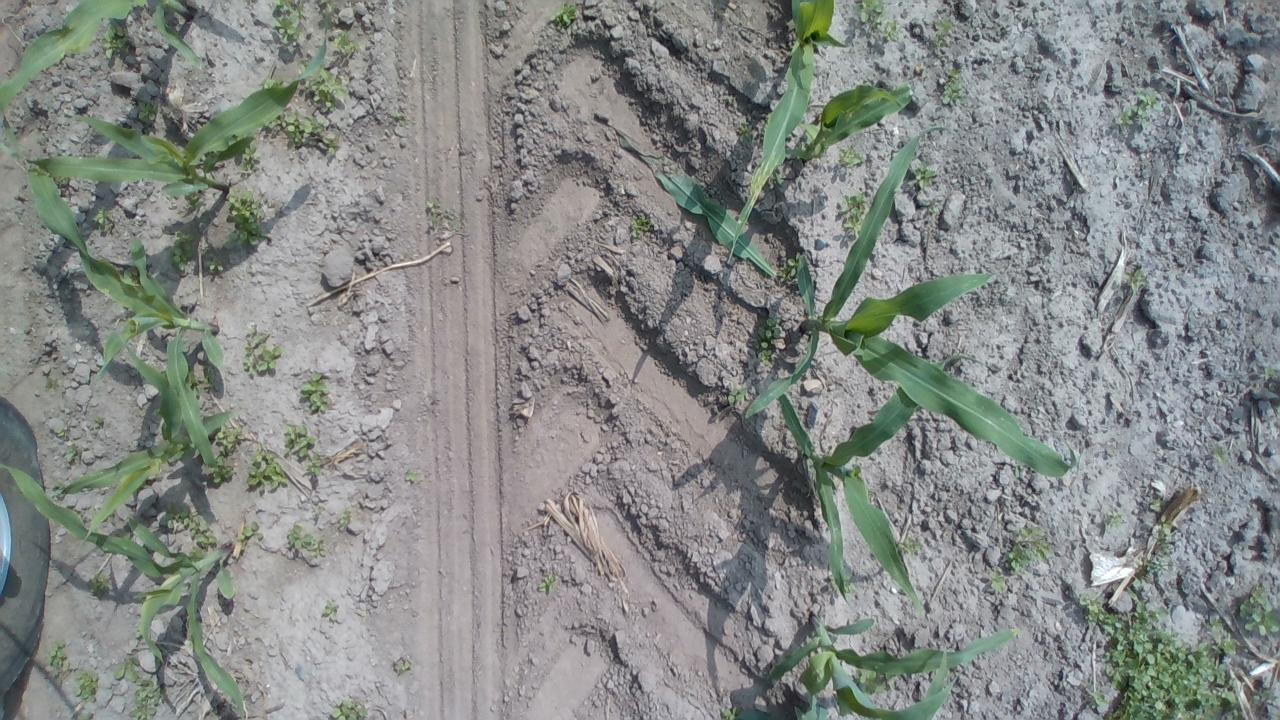Maize: (743, 124, 1082, 478), (0, 116, 224, 470), (0, 459, 248, 720), (0, 22, 327, 202), (778, 353, 990, 614), (57, 341, 233, 543), (730, 0, 849, 258), (762, 613, 1021, 720), (0, 0, 201, 116), (788, 82, 912, 160)
Weeds: (1080, 587, 1240, 720), (223, 186, 269, 244), (298, 57, 346, 111), (1004, 524, 1052, 575), (286, 109, 336, 155), (1239, 585, 1280, 635), (244, 445, 288, 491), (240, 323, 282, 371), (1114, 90, 1160, 130), (269, 0, 307, 45), (838, 190, 868, 238), (286, 523, 326, 558), (754, 316, 782, 366), (130, 679, 164, 720), (852, 666, 896, 696), (168, 229, 198, 273), (298, 372, 330, 412), (44, 640, 72, 685), (282, 422, 315, 457), (183, 512, 216, 546), (546, 0, 578, 33), (100, 20, 126, 59), (424, 197, 456, 227), (213, 422, 242, 454), (942, 68, 964, 107), (74, 670, 99, 704), (857, 0, 884, 30), (331, 699, 368, 720), (930, 17, 954, 48), (238, 138, 261, 170), (112, 658, 142, 682), (332, 29, 359, 54), (208, 457, 234, 482), (163, 502, 188, 528), (1156, 514, 1172, 554), (1123, 268, 1149, 292), (777, 253, 800, 280), (88, 574, 111, 598), (895, 537, 924, 556), (829, 572, 854, 594), (914, 162, 935, 188), (182, 370, 202, 397), (95, 206, 114, 233), (838, 146, 861, 168), (630, 215, 650, 239), (988, 568, 1006, 594), (136, 101, 158, 122), (307, 453, 326, 476), (241, 522, 262, 542), (719, 704, 745, 720), (537, 574, 556, 594), (202, 363, 217, 388), (883, 20, 900, 42), (262, 112, 286, 127), (185, 192, 203, 212), (124, 264, 140, 286), (1253, 687, 1276, 702), (1106, 510, 1124, 529), (204, 255, 224, 272), (259, 76, 285, 89), (323, 599, 338, 620), (188, 546, 206, 563), (728, 387, 746, 404), (738, 122, 752, 142), (770, 167, 784, 186), (1212, 443, 1226, 462), (318, 0, 338, 13), (391, 110, 406, 126), (51, 173, 70, 185), (66, 444, 79, 460), (338, 510, 351, 526), (394, 661, 411, 672), (1144, 562, 1162, 572), (76, 710, 93, 720), (1264, 366, 1276, 378), (56, 428, 70, 438), (43, 377, 52, 392), (1150, 498, 1162, 509), (119, 530, 132, 540), (93, 415, 103, 428), (406, 470, 416, 480), (135, 626, 143, 638), (54, 481, 64, 489), (1276, 404, 1280, 416)
